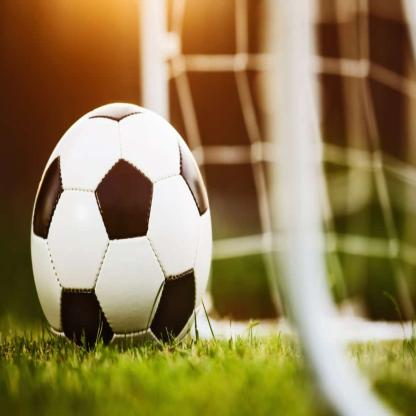ball: (32, 103, 210, 344)
